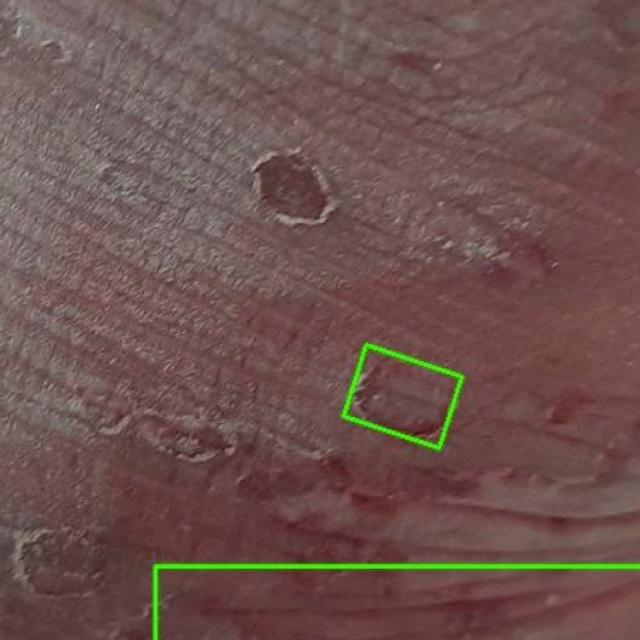Contact Dermatitis: (343, 346, 462, 448)
